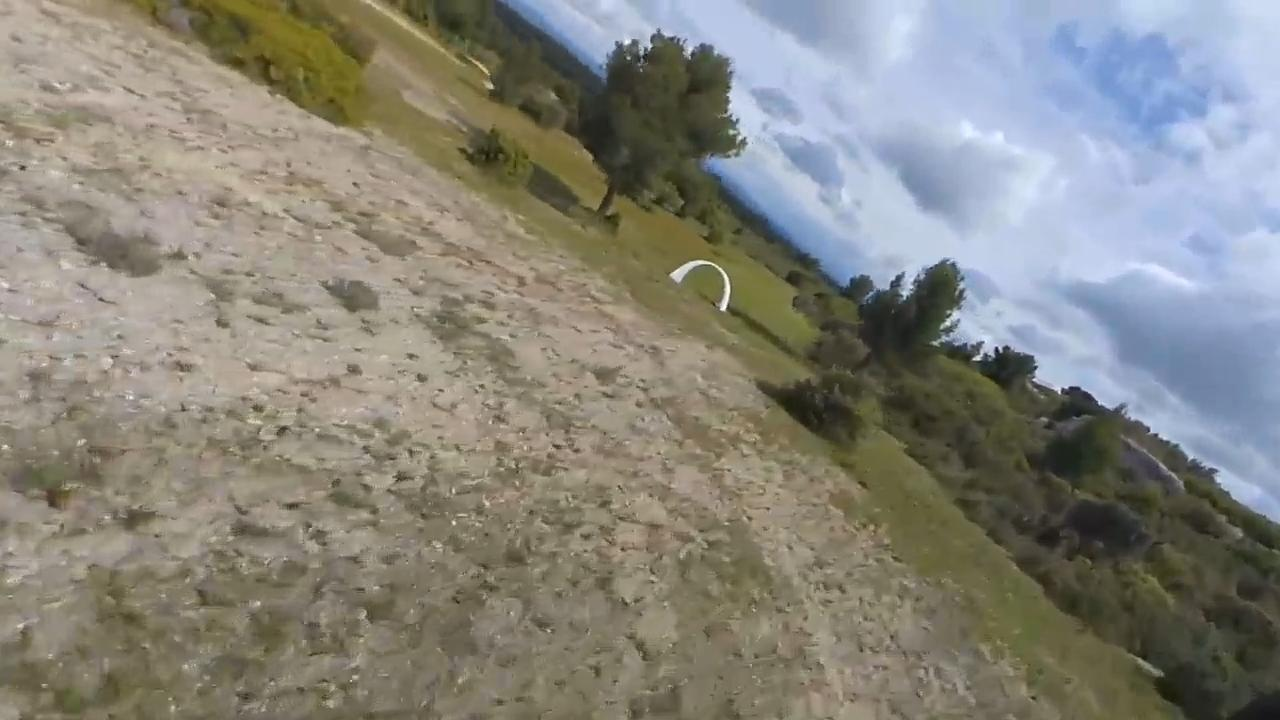gate: (670, 257, 732, 317)
